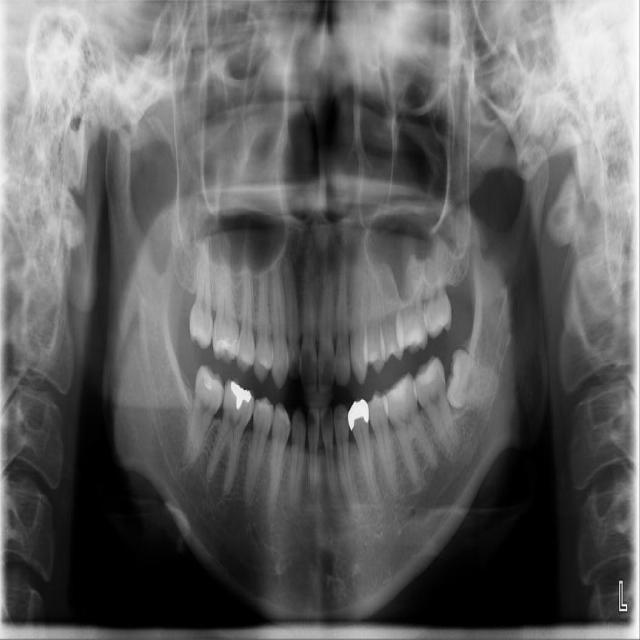Filling: (348, 399, 370, 430), (231, 380, 252, 410), (213, 336, 235, 357), (202, 377, 218, 390)
impacted tooth: (447, 348, 501, 408)
